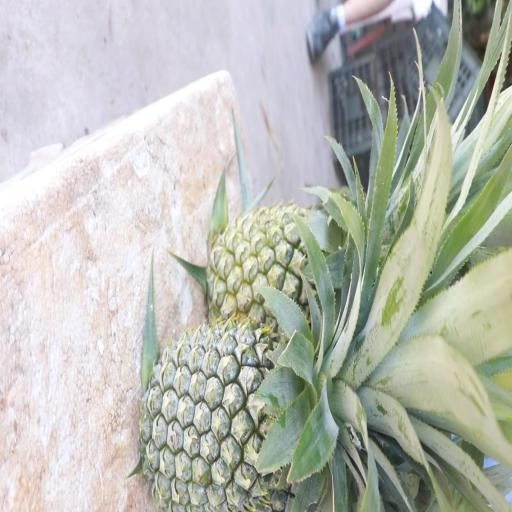Pineapple - v8 v1: (206, 200, 385, 333)
